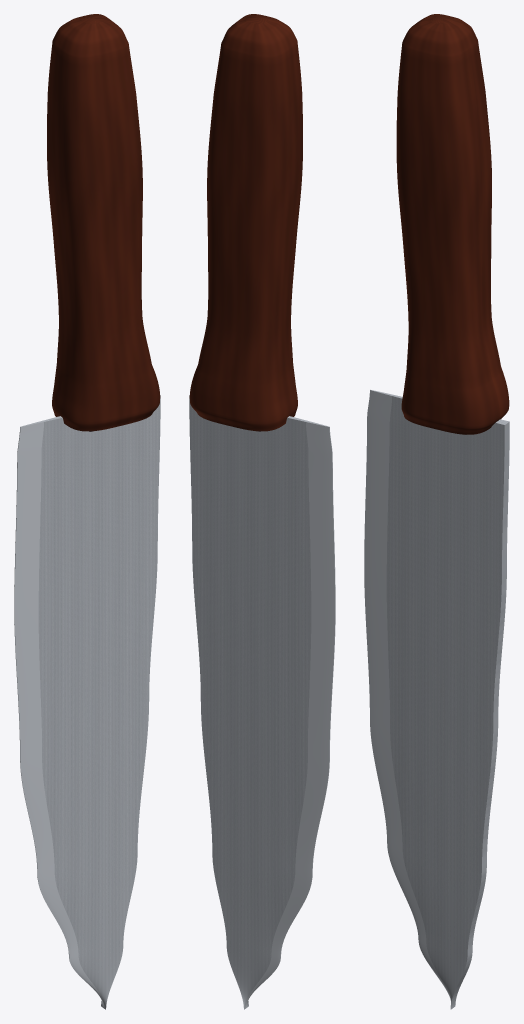
Rendered from LavenderChefKnife_330mm.fbx.
3 renders of one model, left to right at view 1: azimuth 30°, elevation 25°; view 2: azimuth 150°, elevation 25°; view 3: azimuth 330°, elevation 25°, orthographic.
Parts seen in each view (by area): view 1: Knife_MetalBlade, Knife_DarkBrownHandle; view 2: Knife_MetalBlade, Knife_DarkBrownHandle; view 3: Knife_MetalBlade, Knife_DarkBrownHandle.
Part boxes in pixels (left/top/right/bottom): Knife_MetalBlade: left=14, top=395, right=160, bottom=1009; Knife_DarkBrownHandle: left=47, top=14, right=160, bottom=431; Knife_MetalBlade: left=189, top=395, right=335, bottom=1009; Knife_DarkBrownHandle: left=189, top=14, right=302, bottom=431; Knife_MetalBlade: left=364, top=389, right=509, bottom=1009; Knife_DarkBrownHandle: left=396, top=14, right=509, bottom=434.
Bounding box in the file's own units: 0.05 × 0.33 × 0.024.
